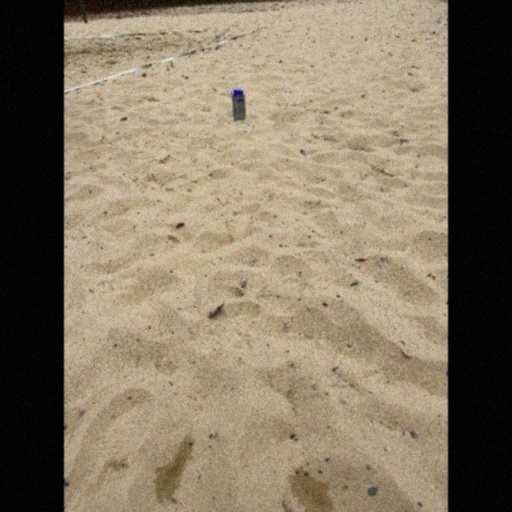bottle: (230, 88, 246, 122)
